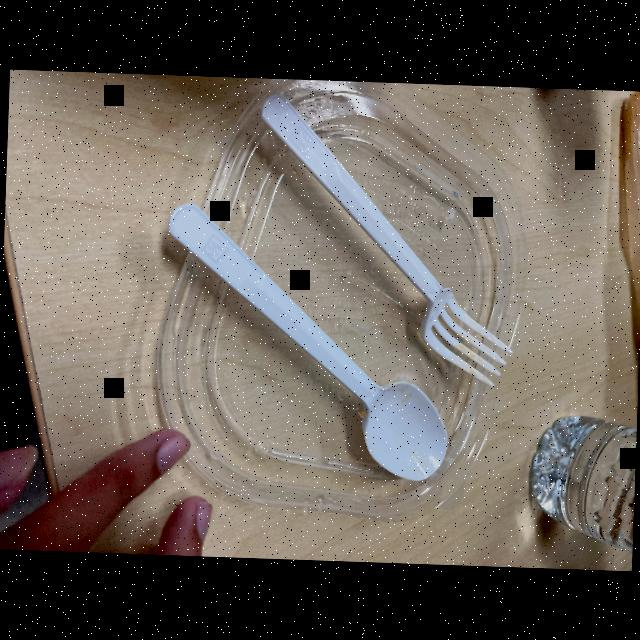plastic_spoon: (142, 194, 448, 494), (250, 95, 531, 392)
